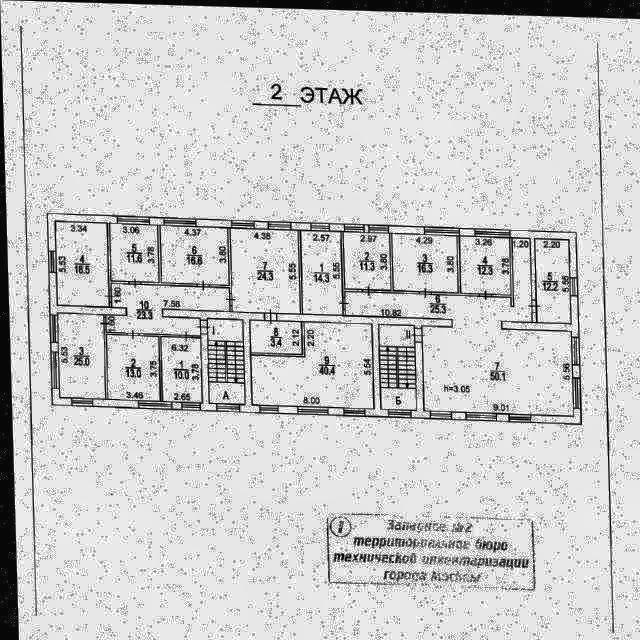room: (342, 233, 571, 417), (250, 321, 372, 405), (104, 282, 229, 335), (229, 225, 298, 313), (54, 219, 107, 307), (157, 224, 228, 283), (57, 312, 104, 398), (389, 231, 457, 289), (105, 333, 158, 401), (300, 228, 341, 313), (205, 315, 242, 403), (377, 323, 414, 408), (458, 231, 509, 292), (533, 234, 569, 320), (109, 221, 157, 282), (342, 228, 389, 288), (159, 334, 199, 401), (249, 320, 301, 352)
